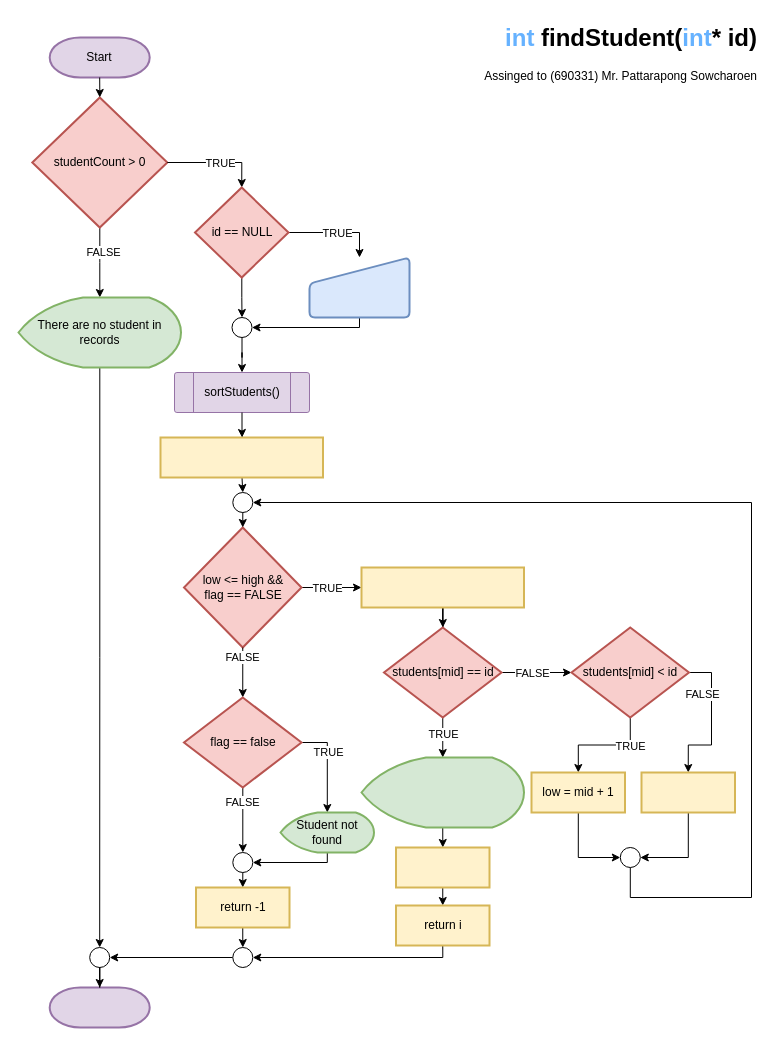
Some shapes in this 777 by 1045 pixel diagram are drawn without their labels. Here are the shapes that lost their labels. From the top down, the centre of each, then its label:
the point at 359,287: id
the point at 241,457: low = 0 high = studentCount - 1
the point at 442,587: mid = low + (high - low) / 2
the point at 442,792: i & ". " & student[i].name & "(" & student[i].id & ")"
the point at 688,792: high = mid - 1
the point at 442,867: flag = TRUE
the point at 99,1007: Stop
